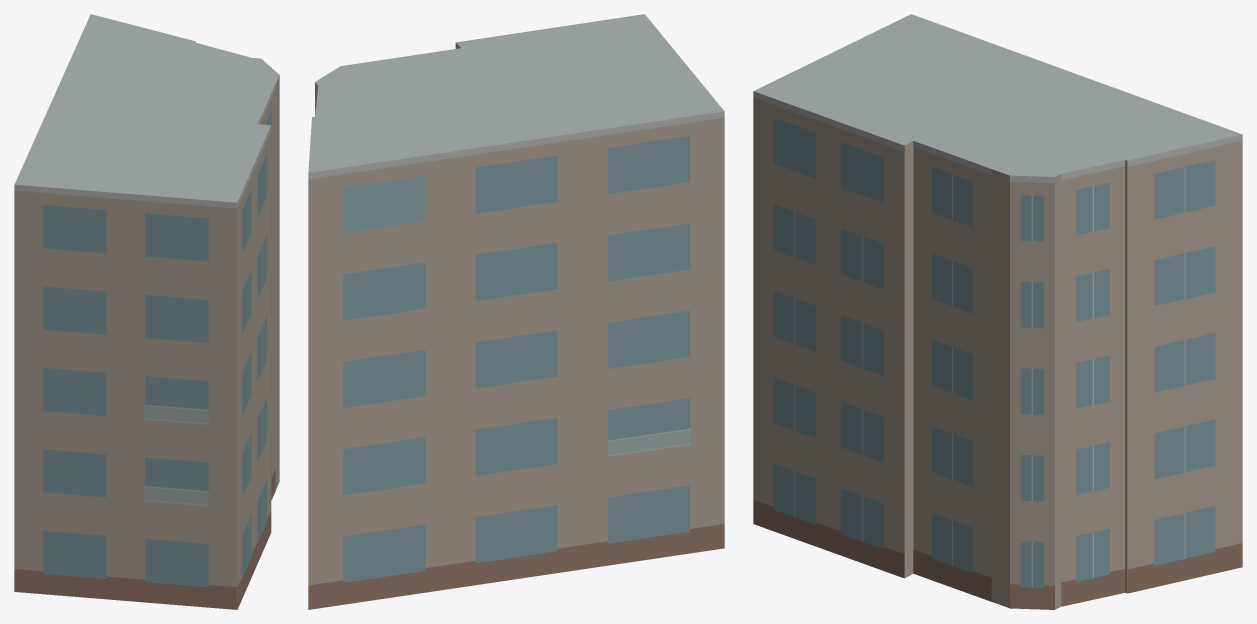
File: survey-upis-32842808.glb
The picture shows the model from 3 angles, left to right: view 1: azimuth 30°, elevation 25°; view 2: azimuth 150°, elevation 25°; view 3: azimuth 270°, elevation 25°; orthographic projection. The views are drawn at different scales.
Parts seen in each view (by area): view 1: survey-upis-32842808.tmp; view 2: survey-upis-32842808.tmp; view 3: survey-upis-32842808.tmp.
Boxes of the visible parts, x1,y1,x2,y2 form: survey-upis-32842808.tmp: (14,14,279,609); survey-upis-32842808.tmp: (308,14,724,609); survey-upis-32842808.tmp: (753,14,1242,609).
Bounding box in the file's own units: 13.34 × 16.5 × 16.9.
